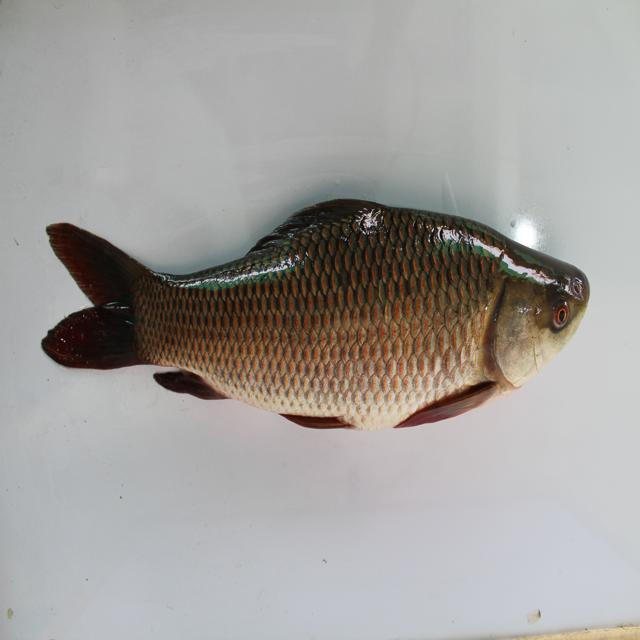Rohu: (34, 206, 611, 448)
